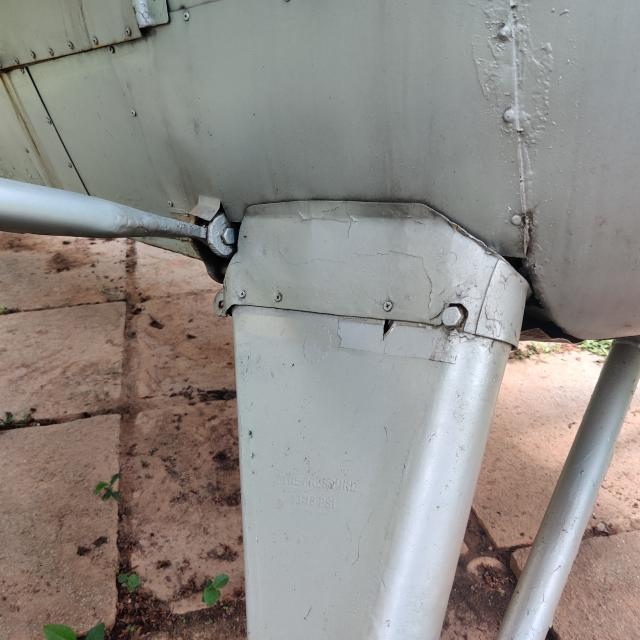crack: (367, 309, 410, 352)
